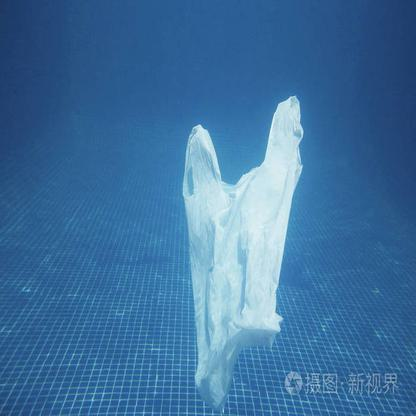plastic bag: (181, 94, 303, 410)
